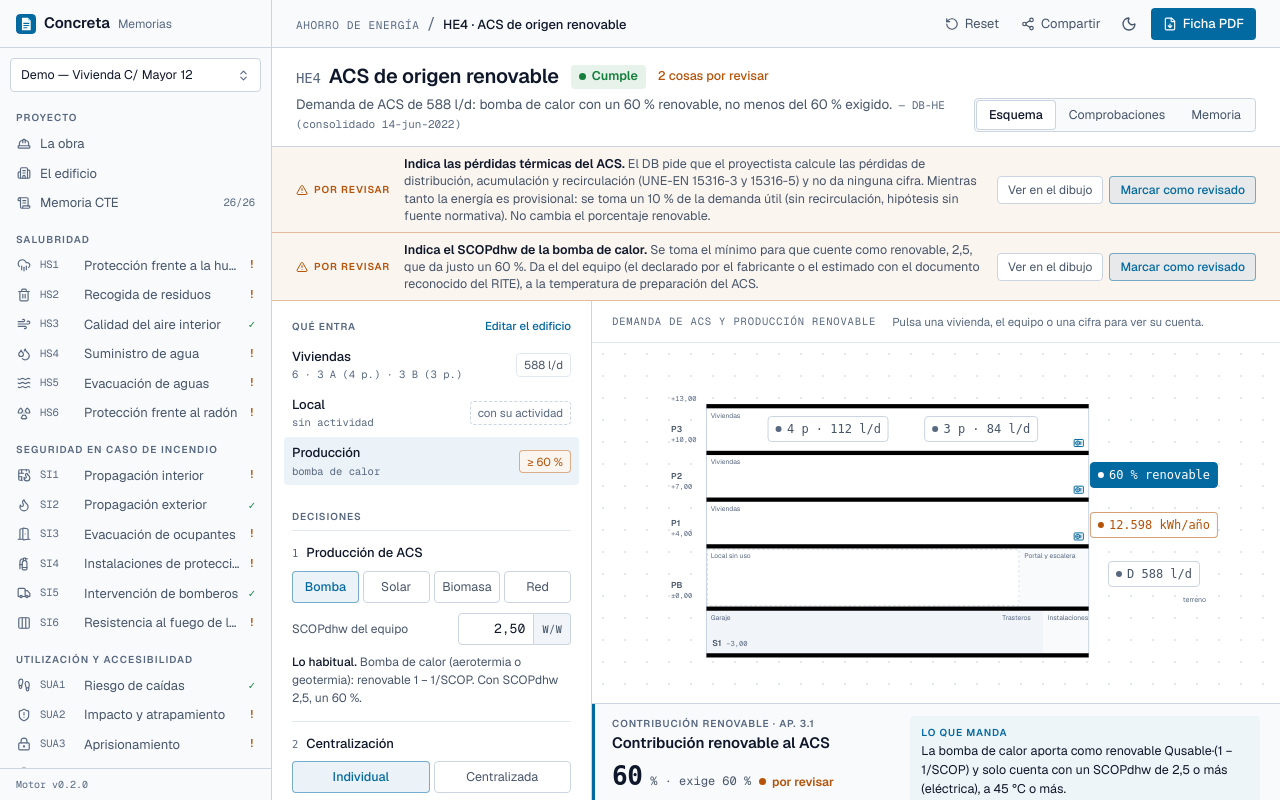
Test: HE4 · ACS de origen renovable (feature-22) › cabecera, qué entra y avisos; con SCOP por debajo de 2,5 no cumple
Expected: the element "Demanda de ACS y producción renovable" is shown, [592,301,1279,799]
Expected: the element named "Avisos" shows "Indica el SCOPdhw de la bomba de calor.", [404,241,647,258]
Replace the text in the field labelled "SCOPdhw del equipo" with "2,2": (496, 629) [458,613,534,645]
Then press Enter
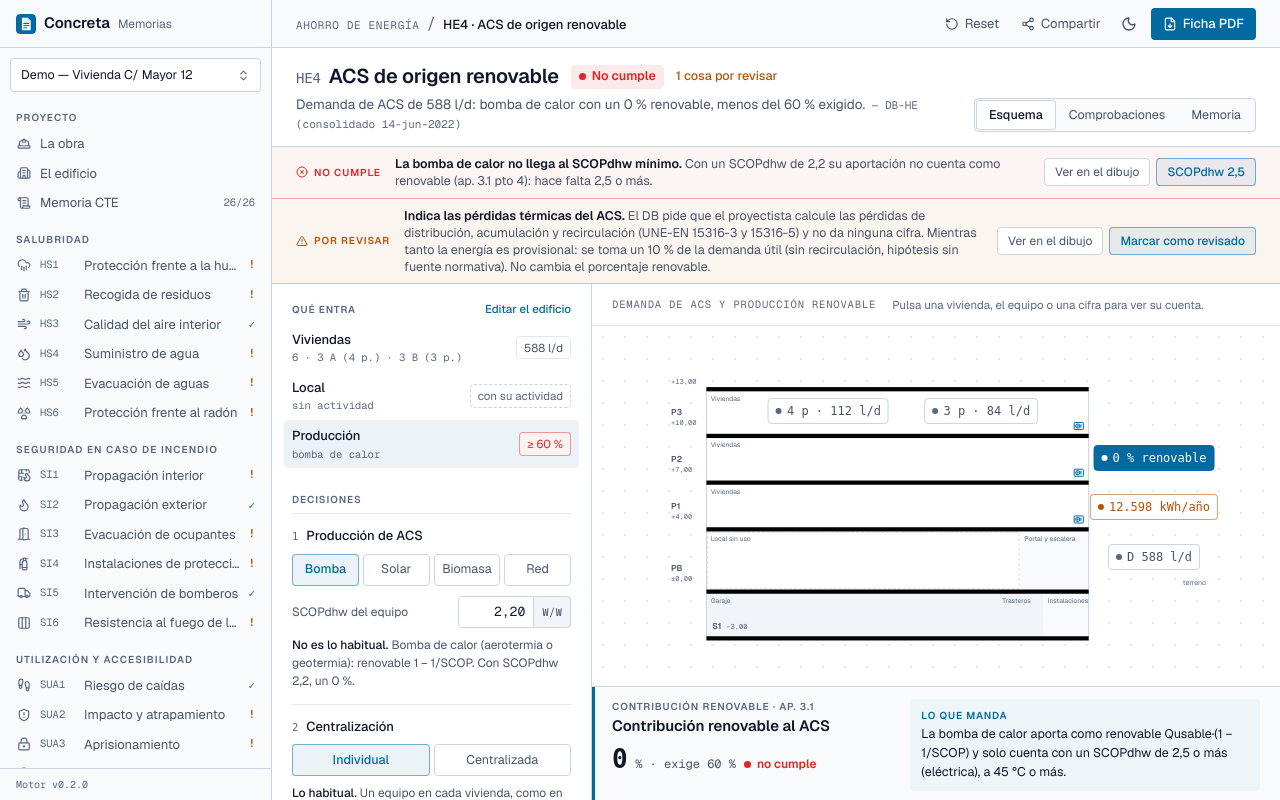
Expected: the element named "Avisos" no longer shows "Indica el SCOPdhw", [272,147,1279,284]
Expected: the text "bomba de calor con un 0 % renovable, menos del 60 %" is shown, [296,95,865,113]
Solar: la fracción exigida como objetivo, con su aviso.
Click the button "Solar": click(396, 570) [363,554,430,586]
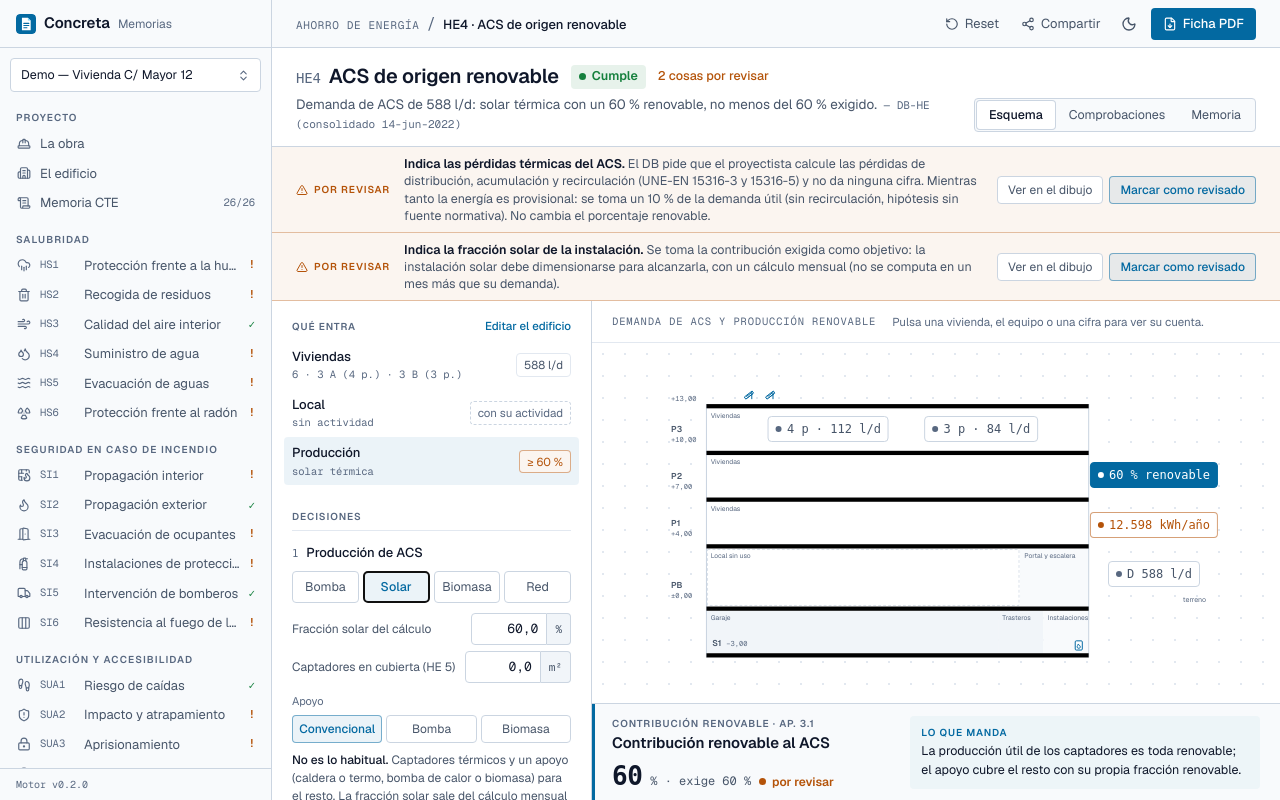
Expected: the element named "Avisos" shows "Indica la fracción solar de la instalación.", [404,241,643,258]
